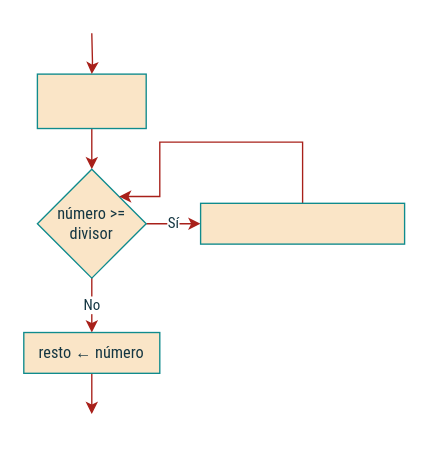
This 428x449 diagram has some shape labels left out. The shapes that lost their labels are listed below. From the top down, each one's centre as x and y in pixels, then its label:
At point (91, 101): "número ← ? divisor ← ?".
At point (302, 223): "número ← número – divisor".
